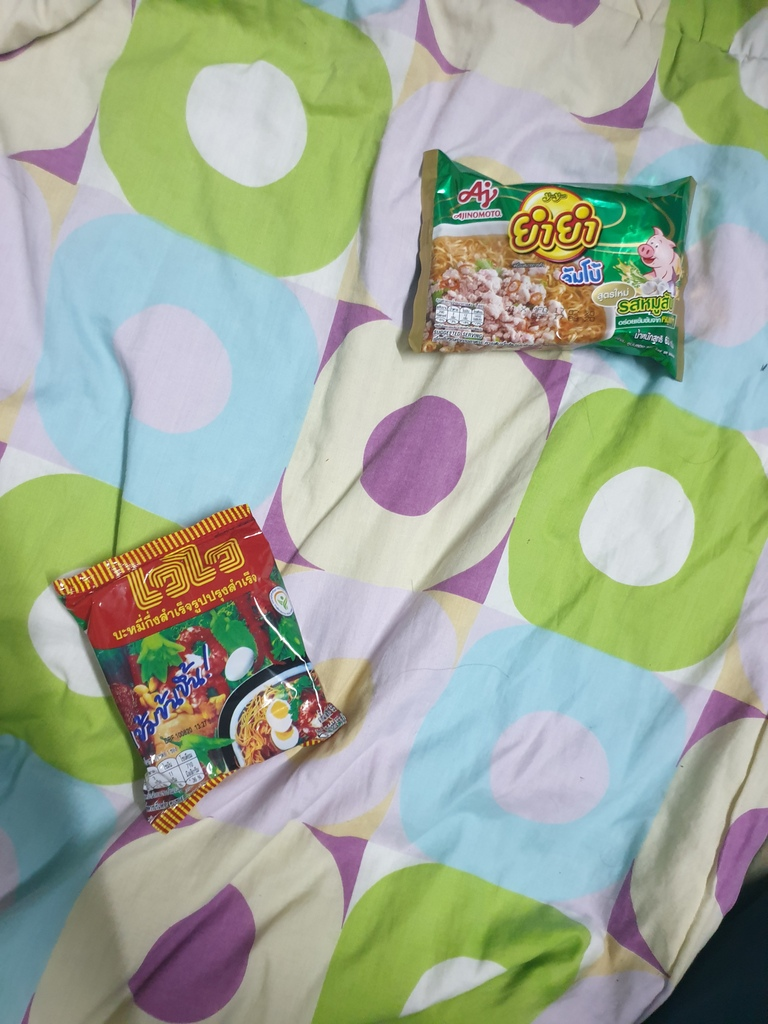waiwai: (58, 521, 354, 781)
yumyum: (416, 148, 694, 378)
